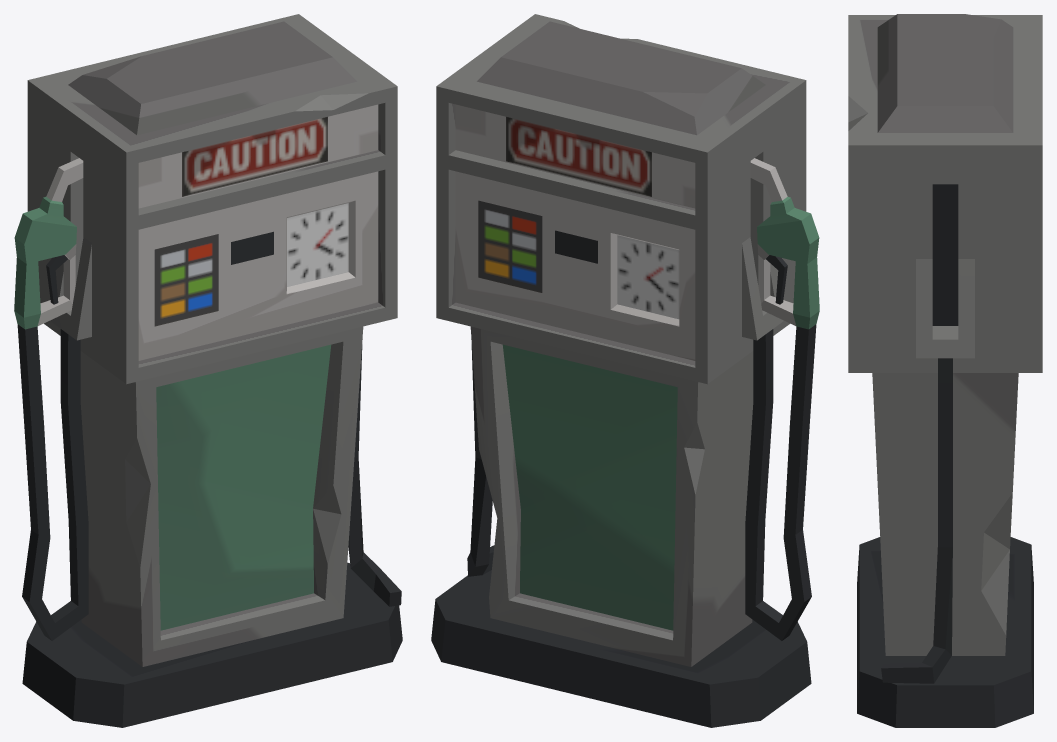
Rendered from SM_Prop_Gaspump_01.obj.
The picture shows the model from 3 angles, left to right: view 1: azimuth 30°, elevation 25°; view 2: azimuth 150°, elevation 25°; view 3: azimuth 270°, elevation 25°; orthographic projection.
Parts seen in each view (by area): view 1: SM_Prop_Gaspump_01_0; view 2: SM_Prop_Gaspump_01_0; view 3: SM_Prop_Gaspump_01_0.
Part boxes in pixels (<box>): SM_Prop_Gaspump_01_0: <box>14,14,402,727</box>; SM_Prop_Gaspump_01_0: <box>431,14,819,727</box>; SM_Prop_Gaspump_01_0: <box>848,14,1042,727</box>.
Size of the model in its own units: 1.34 by 2.14 by 0.6399.
1 material, 1 textured.
